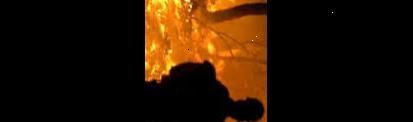fire: (145, 0, 246, 61)
